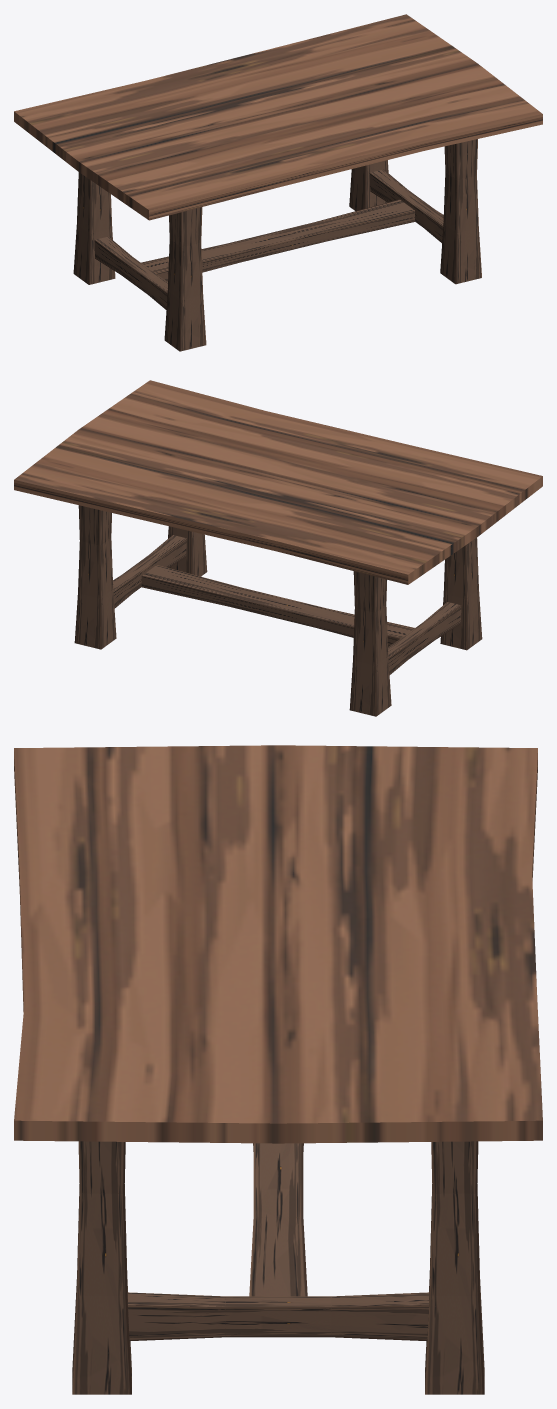
The model's file is furniture_table_02.fbx.
The picture shows the model from 3 angles, top to bottom: view 1: azimuth 30°, elevation 25°; view 2: azimuth 150°, elevation 25°; view 3: azimuth 270°, elevation 25°; orthographic projection. The views are drawn at different scales.
Visible parts, largest first — view 1: furniture_table_02; view 2: furniture_table_02; view 3: furniture_table_02.
Part boxes in pixels (<box>): furniture_table_02: <box>14,14,542,351</box>; furniture_table_02: <box>14,380,542,716</box>; furniture_table_02: <box>14,745,542,1394</box>.
Size of the model in its own units: 2.03 by 0.794 by 1.2.
1 material, 1 textured.
